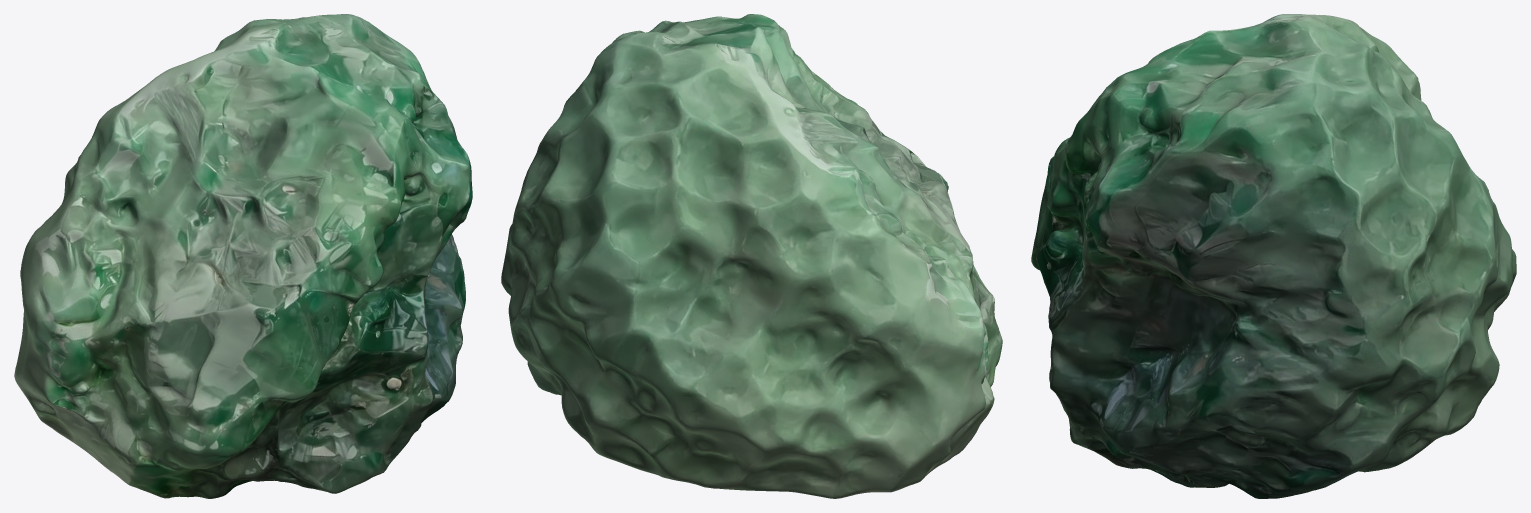
File: stone_wood.glb
The picture shows the model from 3 angles, left to right: view 1: azimuth 30°, elevation 25°; view 2: azimuth 150°, elevation 25°; view 3: azimuth 270°, elevation 25°; orthographic projection. The views are drawn at different scales.
Visible parts, largest first — view 1: tripo_node_1c07bab4; view 2: tripo_node_1c07bab4; view 3: tripo_node_1c07bab4.
Boxes of the visible parts, <box> form: tripo_node_1c07bab4: <box>14,14,472,498</box>; tripo_node_1c07bab4: <box>501,14,1002,498</box>; tripo_node_1c07bab4: <box>1031,14,1516,498</box>.
Bounding box in the file's own units: 97.82 × 89.32 × 86.94.
1 material, 1 textured.
